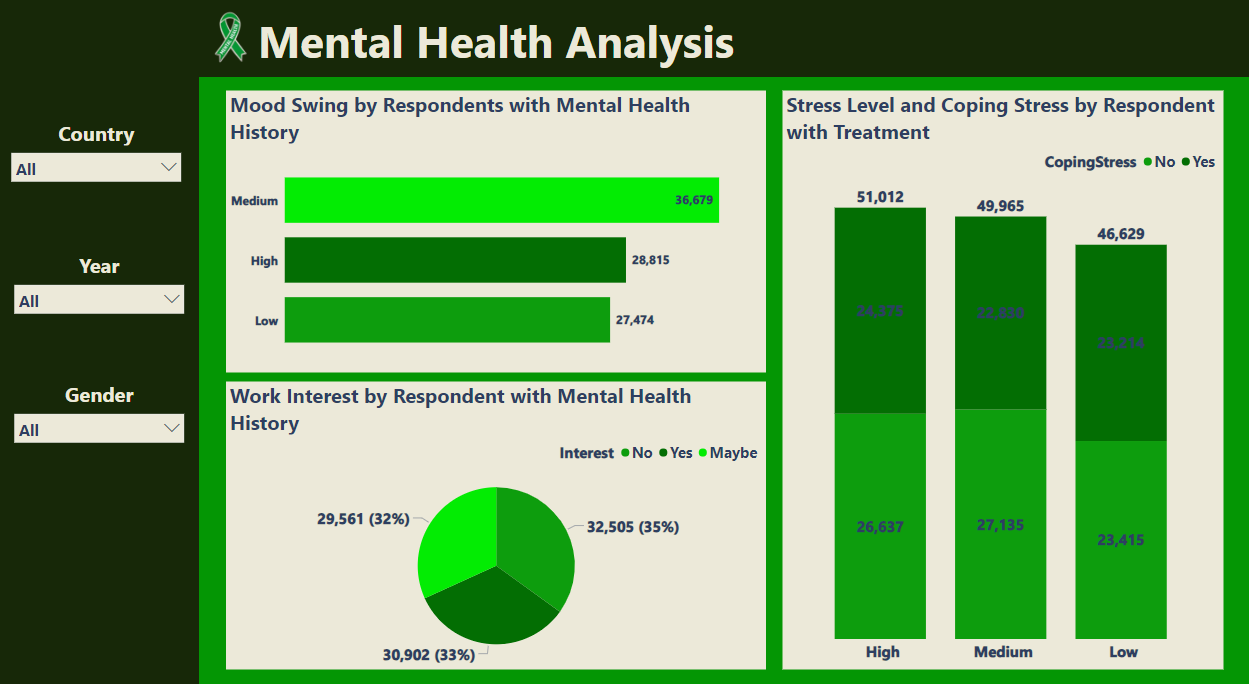

The dashboard page shown, as its layout file describes it:
{"tool":"powerbi","page":{"name":"Report 2","canvas":[1670,915],"ordinal":1},"visuals":[{"type":"shape","box":[268,104,1402,812],"z":0},{"type":"image","box":[254,8,112,86],"z":1000},{"type":"textbox","box":[282,10,764,104],"z":2000},{"type":"shape","box":[304,122,720,376],"z":3000},{"type":"shape","box":[1046,122,588,772],"z":5000},{"type":"slicer","title":"Year","fields":{"Values":["Mental Health Dataset.Year"]},"box":[12,336,246,86],"z":6000},{"type":"slicer","title":"Gender","fields":{"Values":["Mental Health Dataset.Gender"]},"box":[12,508,246,128],"z":7000},{"type":"slicer","title":"Country","fields":{"Values":["Mental Health Dataset.Country"]},"box":[8,160,246,86],"z":8000},{"type":"clusteredBarChart","title":"Mood Swing by Respondents with Mental Health History","fields":{"Category":["Mental Health Dataset.Mood_Swings"],"Y":["Dax Measure.Respondents with Mental Health History"]},"box":[304,122,720,376],"z":9000},{"type":"columnChart","title":"Stress Level and Coping Stress by Respondent  with Treatment","fields":{"Category":["Mental Health Dataset.Growing_Stress"],"Series":["Mental Health Dataset.Coping_Struggles"],"Y":["Dax Measure.Respondents with Treatment"]},"box":[1046,122,588,772],"z":11000},{"type":"shape","box":[304,510,720,384],"z":12000},{"type":"pieChart","title":"Work Interest by Respondent  with Mental Health History","fields":{"Category":["Mental Health Dataset.Work_Interest"],"Y":["Dax Measure.Respondents with Mental Health History"]},"box":[304,510,720,384],"z":12500}]}

Visuals, with their boxes in screenshot pixels (x1, y1, x2, y2), scaled from the page's 1670x915 canvas onto the 1249x684 screenshot:
shape: bbox(200, 78, 1248, 683)
image: bbox(190, 6, 274, 70)
textbox: bbox(211, 7, 782, 85)
shape: bbox(227, 91, 766, 372)
shape: bbox(782, 91, 1222, 668)
"Year" slicer: bbox(9, 251, 193, 315)
"Gender" slicer: bbox(9, 380, 193, 475)
"Country" slicer: bbox(6, 120, 190, 184)
"Mood Swing by Respondents with Mental Health History" clusteredBarChart: bbox(227, 91, 766, 372)
"Stress Level and Coping Stress by Respondent  with Treatment" columnChart: bbox(782, 91, 1222, 668)
shape: bbox(227, 381, 766, 668)
"Work Interest by Respondent  with Mental Health History" pieChart: bbox(227, 381, 766, 668)
